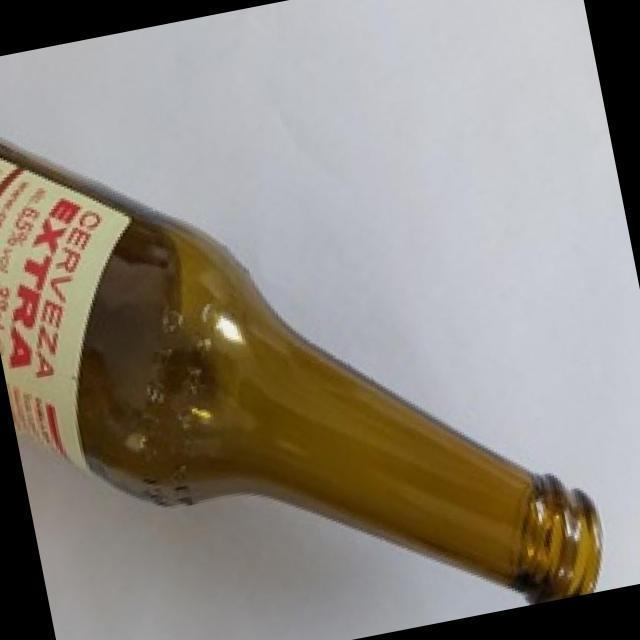Glass: (0, 136, 604, 604)
